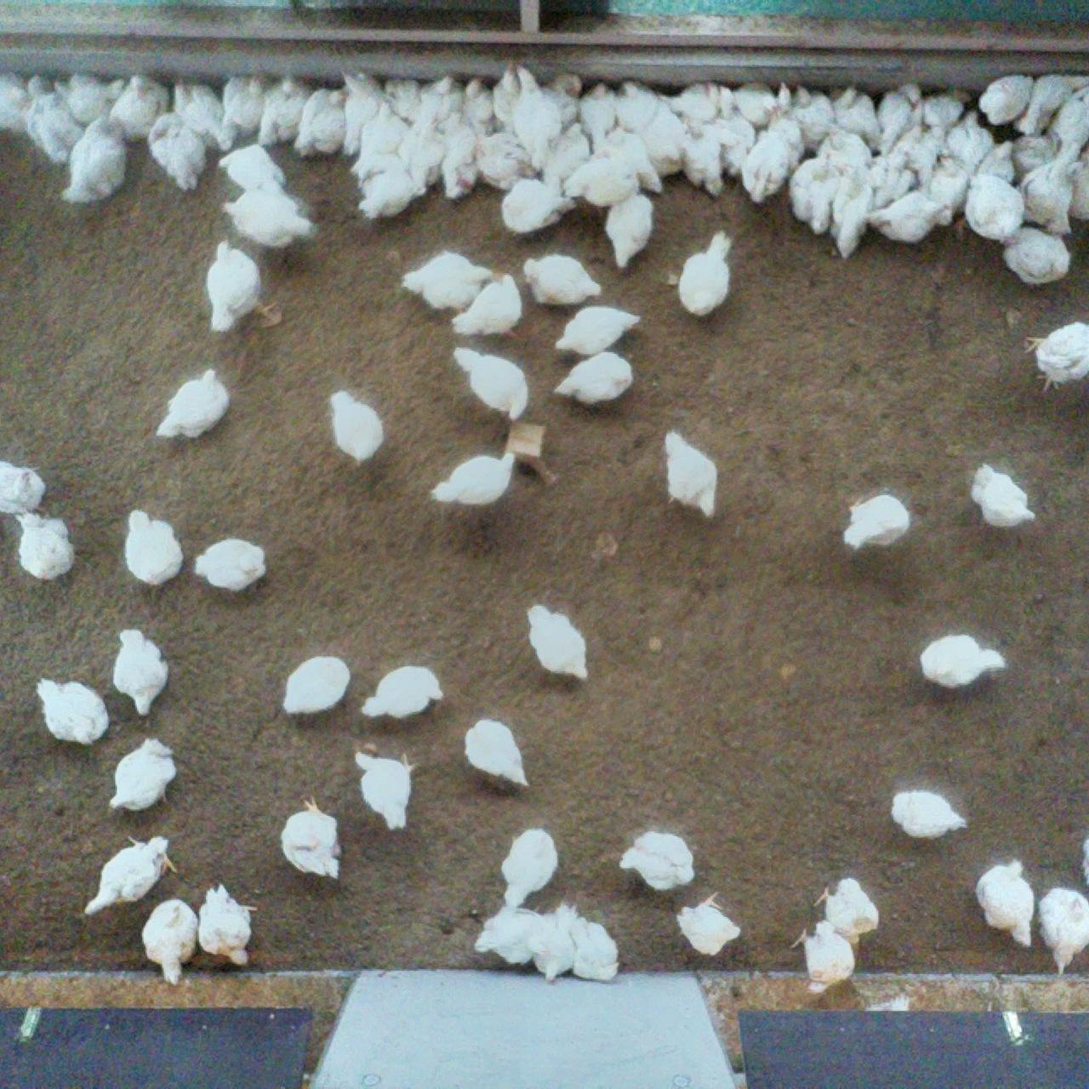chicken: (80, 833, 179, 922), (204, 236, 285, 339), (450, 345, 533, 426), (973, 853, 1040, 952), (55, 112, 122, 210), (521, 600, 596, 684), (401, 248, 495, 315), (30, 674, 112, 749), (106, 734, 178, 819), (19, 71, 86, 162), (278, 794, 348, 881), (158, 366, 235, 445), (429, 447, 519, 513), (137, 894, 199, 989), (109, 625, 171, 720), (674, 227, 736, 321), (352, 746, 418, 834), (917, 631, 1010, 693), (219, 188, 311, 250), (661, 426, 721, 521), (196, 881, 262, 967), (447, 272, 527, 342), (510, 65, 562, 171), (500, 824, 563, 911), (615, 826, 698, 892), (121, 506, 186, 589), (348, 101, 411, 186), (967, 460, 1039, 534), (789, 918, 857, 996), (146, 112, 211, 193), (551, 302, 643, 359), (1021, 141, 1077, 234), (358, 663, 446, 722), (462, 716, 532, 790), (324, 387, 389, 465), (1023, 316, 1089, 392), (520, 249, 605, 308), (789, 148, 844, 238), (869, 188, 951, 248), (499, 175, 577, 238), (191, 534, 270, 596), (552, 349, 635, 407), (472, 905, 548, 968), (563, 145, 640, 207), (673, 888, 742, 957), (887, 786, 971, 842), (600, 126, 667, 196), (810, 875, 881, 941), (279, 653, 353, 716), (173, 77, 234, 153), (1038, 886, 1089, 976), (106, 73, 172, 142), (740, 115, 790, 205), (12, 508, 77, 576), (842, 492, 913, 554), (965, 172, 1025, 245), (601, 189, 654, 271), (292, 83, 349, 158), (1002, 223, 1072, 284), (1013, 71, 1079, 135), (534, 900, 583, 986), (340, 66, 386, 156), (829, 167, 873, 261), (356, 155, 413, 227), (255, 78, 311, 149), (570, 914, 627, 983), (400, 109, 443, 197), (476, 128, 535, 191), (878, 81, 928, 154), (216, 142, 288, 192), (440, 118, 482, 203), (832, 82, 883, 152), (52, 76, 126, 123), (660, 78, 736, 123), (641, 106, 687, 180), (683, 117, 725, 198), (545, 120, 592, 191), (767, 80, 809, 159), (977, 71, 1038, 125), (220, 72, 273, 133), (792, 82, 837, 152), (946, 109, 997, 169), (870, 149, 917, 213), (0, 455, 48, 517), (1048, 82, 1089, 154), (578, 79, 618, 152), (717, 111, 757, 178), (613, 81, 661, 133), (543, 69, 584, 129), (927, 155, 969, 213), (815, 128, 873, 169), (732, 80, 781, 126), (923, 91, 968, 141), (976, 137, 1019, 186), (0, 69, 30, 134), (459, 77, 495, 131), (492, 60, 519, 132), (420, 73, 462, 118), (912, 127, 944, 181)
